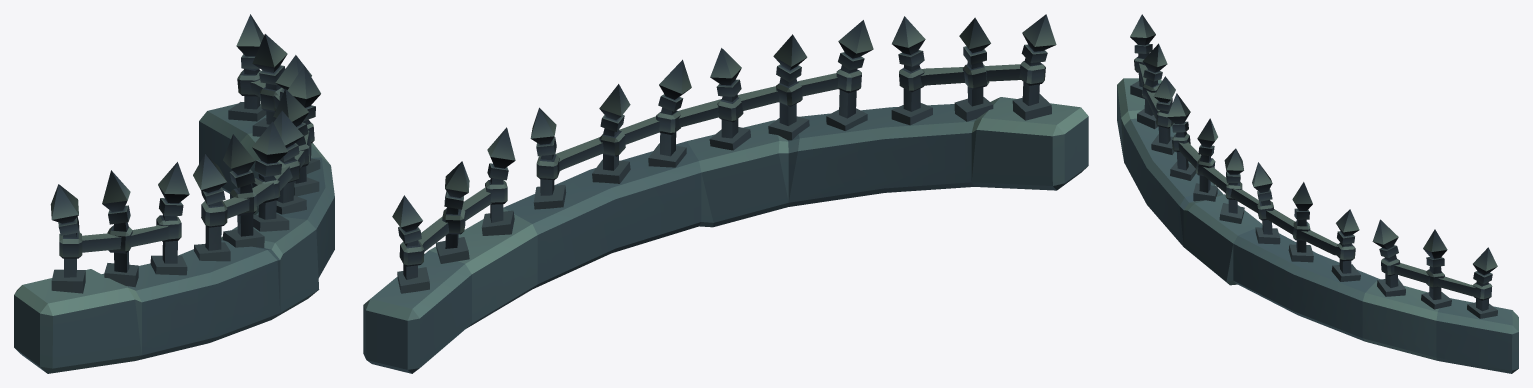
File: stair_round_border_spikes_outside.fbx
3 views of the same model, side by side, from view 1: azimuth 30°, elevation 25°; view 2: azimuth 150°, elevation 25°; view 3: azimuth 270°, elevation 25° (orthographic). The views are drawn at different scales.
Parts seen in each view (by area): view 1: stair_round_border_spikes_outside; view 2: stair_round_border_spikes_outside; view 3: stair_round_border_spikes_outside.
Part boxes in pixels (x1,y1,x2,y2): stair_round_border_spikes_outside: (14, 14, 334, 373); stair_round_border_spikes_outside: (363, 14, 1088, 373); stair_round_border_spikes_outside: (1117, 14, 1518, 373).
Bounding box in the file's own units: 430 × 241 × 430.
